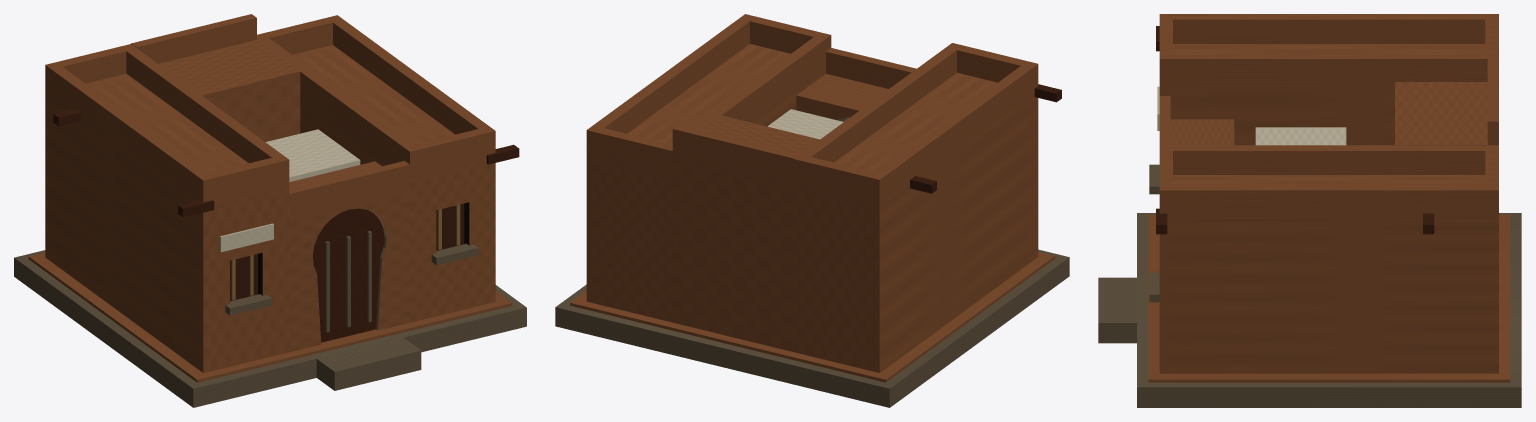
File: Berber_House_Age1.fbx
The picture shows the model from 3 angles, left to right: view 1: azimuth 30°, elevation 25°; view 2: azimuth 150°, elevation 25°; view 3: azimuth 270°, elevation 25°; orthographic projection. The views are drawn at different scales.
Visible parts, largest first — view 1: west_room, east_room, stone_foundation, entrance_room, horseshoe_door, west_roof_deck, west_parapet, east_roof_deck, courtyard_earthen_floor, west_parapet.001, east_parapet.001, link_roof (+20 smaller); view 2: west_room, north_room, stone_foundation, east_room, west_parapet, west_roof_deck, east_roof_deck, courtyard_earthen_floor, east_parapet.001, west_parapet.001, east_parapet, link_roof_parapet (+9 smaller); view 3: east_room, stone_foundation, east_parapet.001, west_parapet.001, west_room, east_parapet, west_parapet, courtyard_earthen_floor, link_roof, east_roof_deck, west_roof_deck, entrance_step (+8 smaller).
Part boxes in pixels (left/top/right/bottom): west_room: left=45, top=92, right=289, bottom=373; east_room: left=300, top=99, right=495, bottom=322; stone_foundation: left=14, top=250, right=526, bottom=407; entrance_room: left=289, top=192, right=409, bottom=352; horseshoe_door: left=313, top=208, right=384, bottom=342; west_roof_deck: left=45, top=73, right=289, bottom=204; west_parapet: left=45, top=62, right=214, bottom=202; east_roof_deck: left=292, top=45, right=486, bottom=178; courtyard_earthen_floor: left=28, top=252, right=512, bottom=382; west_parapet.001: left=120, top=44, right=289, bottom=186; east_parapet.001: left=327, top=15, right=495, bottom=158; link_roof: left=159, top=40, right=300, bottom=99; west_room: left=793, top=94, right=1038, bottom=372; north_room: left=672, top=157, right=793, bottom=351; stone_foundation: left=555, top=249, right=1069, bottom=407; east_room: left=586, top=66, right=825, bottom=322; west_parapet: left=868, top=61, right=1038, bottom=204; west_roof_deck: left=793, top=72, right=1034, bottom=207; east_roof_deck: left=586, top=44, right=825, bottom=178; courtyard_earthen_floor: left=570, top=252, right=1054, bottom=382; east_parapet.001: left=586, top=14, right=755, bottom=157; west_parapet.001: left=793, top=43, right=962, bottom=185; east_parapet: left=661, top=32, right=831, bottom=175; link_roof_parapet: left=672, top=125, right=798, bottom=181; east_room: left=1159, top=219, right=1498, bottom=373; stone_foundation: left=1137, top=213, right=1521, bottom=407; east_parapet.001: left=1159, top=184, right=1498, bottom=216; west_parapet.001: left=1159, top=53, right=1498, bottom=85; west_room: left=1159, top=88, right=1394, bottom=145; east_parapet: left=1159, top=145, right=1498, bottom=174; west_parapet: left=1159, top=14, right=1498, bottom=43; courtyard_earthen_floor: left=1148, top=214, right=1510, bottom=382; link_roof: left=1395, top=82, right=1498, bottom=145; east_roof_deck: left=1167, top=175, right=1498, bottom=219; west_roof_deck: left=1159, top=44, right=1485, bottom=88; entrance_step: left=1098, top=277, right=1136, bottom=343.
Bounding box in the file's own units: 368 × 225 × 374.
Materials: 6 (6 with a texture image).
